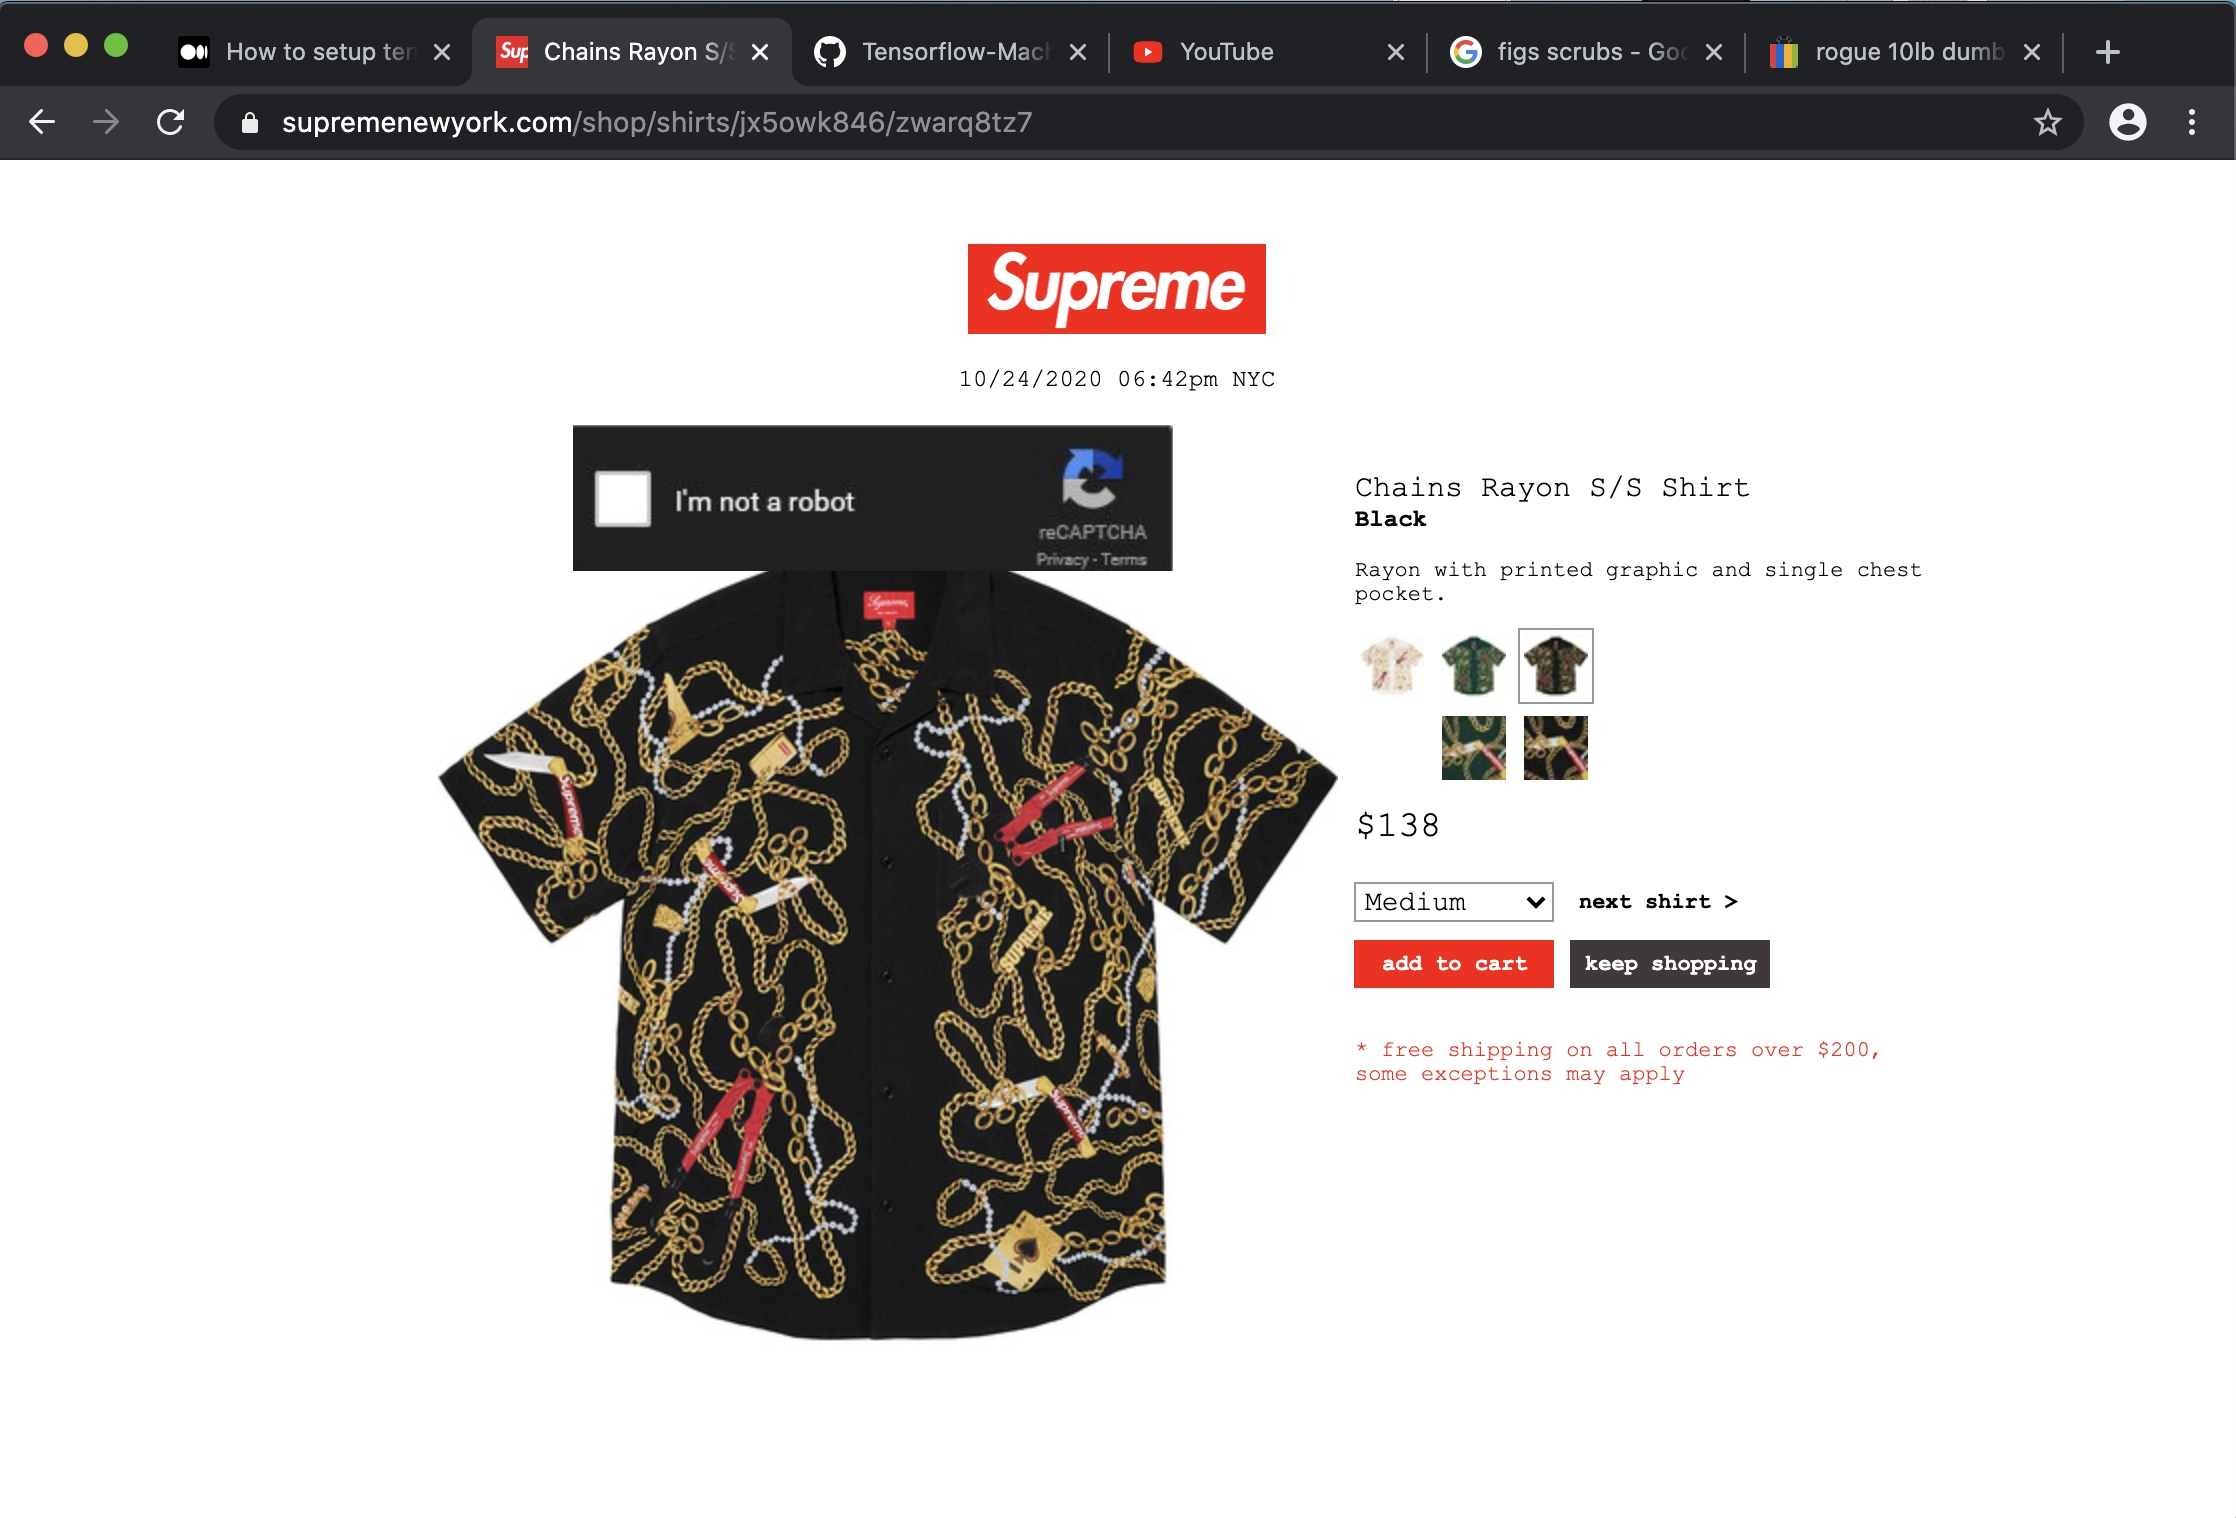captcha: (557, 412, 1191, 588)
